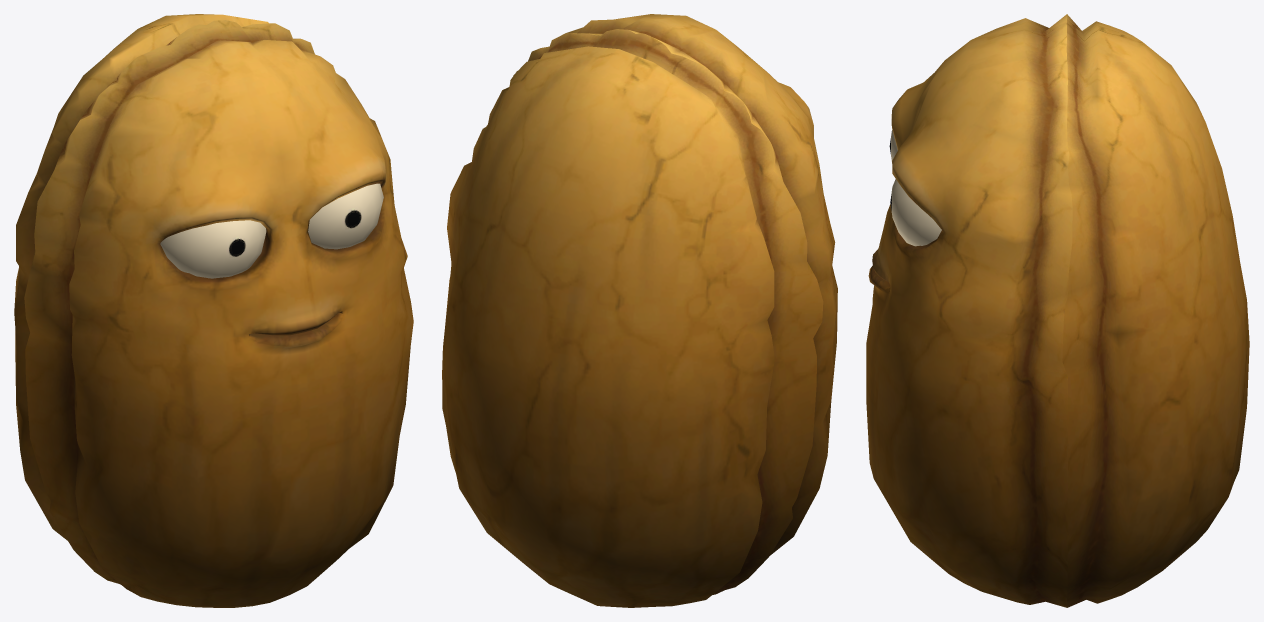
File: wallnut_Mesh.fbx
The picture shows the model from 3 angles, left to right: view 1: azimuth 30°, elevation 25°; view 2: azimuth 150°, elevation 25°; view 3: azimuth 270°, elevation 25°; orthographic projection.
Parts seen in each view (by area): view 1: Body_TallnutBattlementBody_M:lod0; view 2: Body_TallnutBattlementBody_M:lod0; view 3: Body_TallnutBattlementBody_M:lod0.
Boxes of the visible parts, x1,y1,x2,y2 form: Body_TallnutBattlementBody_M:lod0: [14, 14, 413, 607]; Body_TallnutBattlementBody_M:lod0: [442, 14, 837, 607]; Body_TallnutBattlementBody_M:lod0: [866, 14, 1249, 607].
Size of the model in its own units: 75.09 by 111 by 69.3.
1 material, 1 textured.
